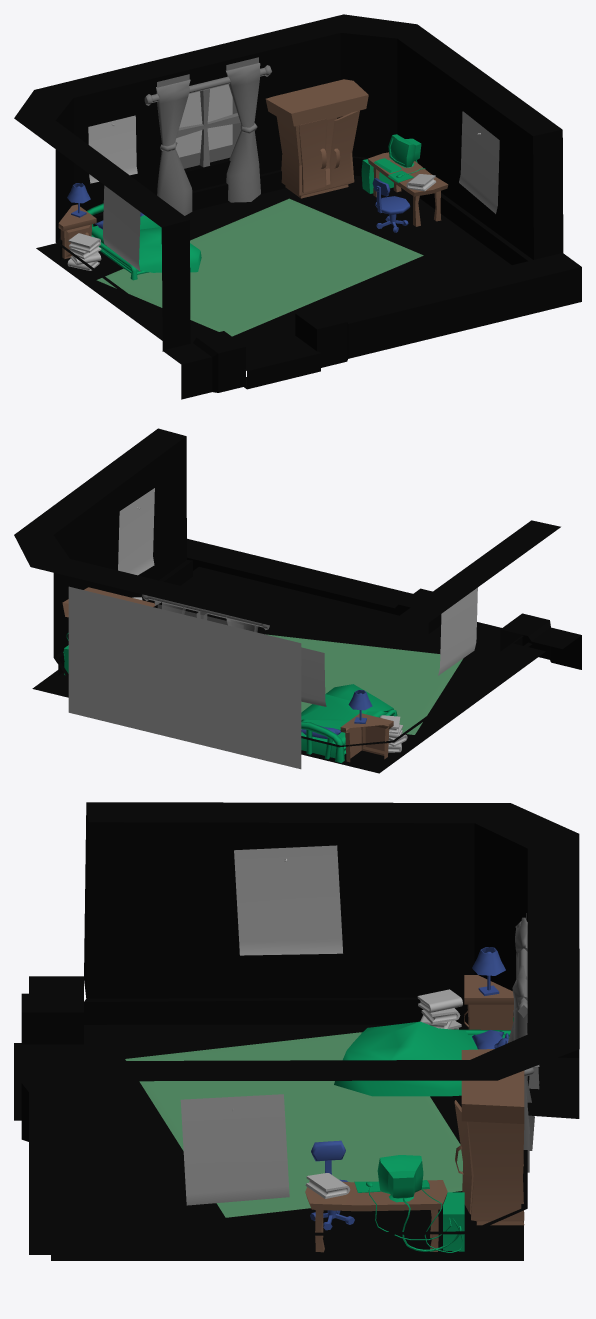
Rendered from NerdRoom.fbx.
The picture shows the model from 3 angles, top to bottom: view 1: azimuth 30°, elevation 25°; view 2: azimuth 150°, elevation 25°; view 3: azimuth 270°, elevation 25°; orthographic projection. The views are drawn at different scales.
Parts seen in each view (by area): view 1: BackWalls, Carpet, Floor, FakeWall, Closet, Curtain, Glass, Poster1, Outside1, Poster, Poster2, ComputerStuff (+6 smaller); view 2: Outside1, BackWalls, Floor, FakeWall, Carpet, Poster1, Poster, Blanket1, Nighttable, Poster2, Curtain, BedFrame1 (+2 smaller); view 3: BackWalls, Floor, Carpet, FakeWall, Poster, Poster1, Closet, Blanket1, ComputerStuff, Table, Curtain, Nighttable (+4 smaller).
Part boxes in pixels (x1,y1,x2,y2): BackWalls: (14,14,563,351); Carpet: (96,198,423,336); Floor: (36,175,511,389); FakeWall: (162,253,581,399); Closet: (265,79,368,198); Curtain: (144,57,271,215); Glass: (175,84,240,168); Poster1: (459,111,499,213); Outside1: (176,84,232,157); Poster: (102,185,140,271); Poster2: (88,115,137,183); ComputerStuff: (361,134,425,193); Outside1: (68,586,301,769); BackWalls: (14,428,560,747); Floor: (32,567,545,773); FakeWall: (187,538,581,669); Carpet: (265,634,463,734); Poster1: (118,488,154,575); Poster: (438,587,477,675); Blanket1: (301,684,393,720); Nighttable: (340,713,393,762); Poster2: (301,647,326,706); Curtain: (142,594,269,632); BedFrame1: (301,709,397,762); BackWalls: (84,802,579,1237); Floor: (14,1024,523,1260); Carpet: (125,1032,462,1217); FakeWall: (21,976,83,1254); Poster: (234,845,342,955); Poster1: (180,1094,289,1205); Closet: (454,1049,524,1225); Blanket1: (334,1021,477,1096); ComputerStuff: (354,1155,464,1252); Table: (305,1180,447,1252); Curtain: (508,917,534,1172); Nighttable: (464,975,513,1030).
Bounding box in the file's own units: 12.03 × 4.52 × 10.34.
